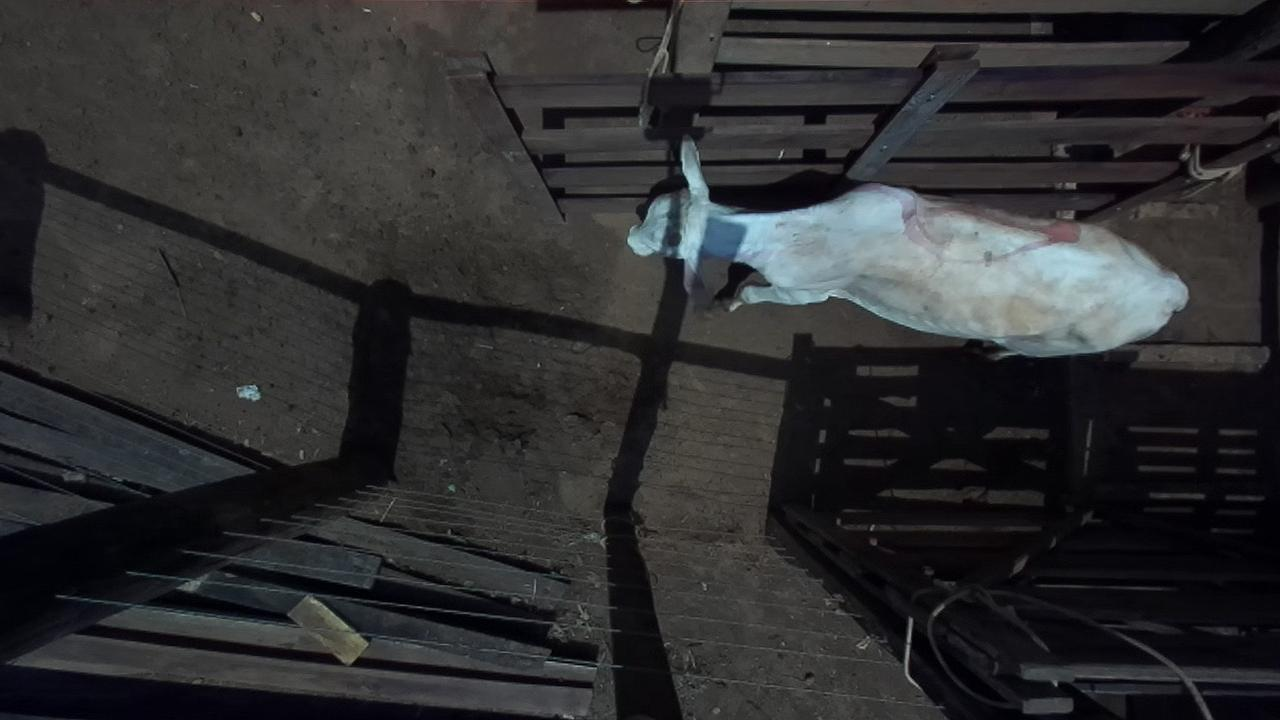cattle: (625, 133, 1189, 360)
